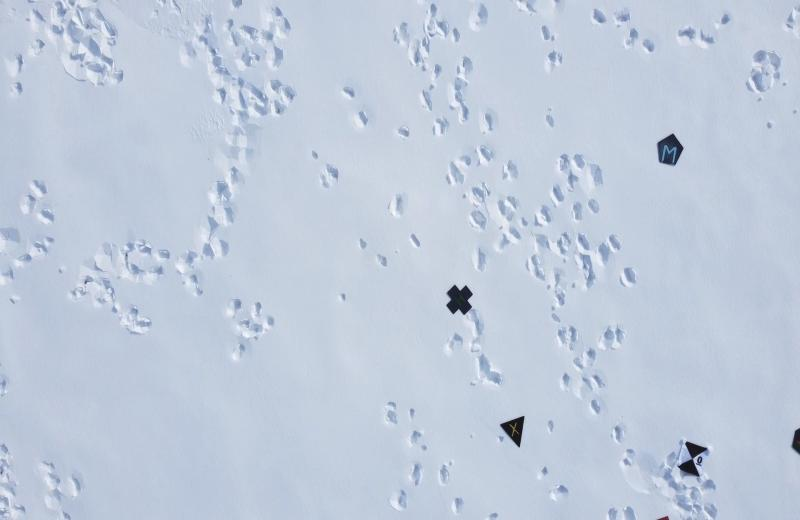Cross: (442, 280, 478, 328)
Pentagon: (652, 126, 694, 172)
Triangle: (492, 410, 534, 453)
